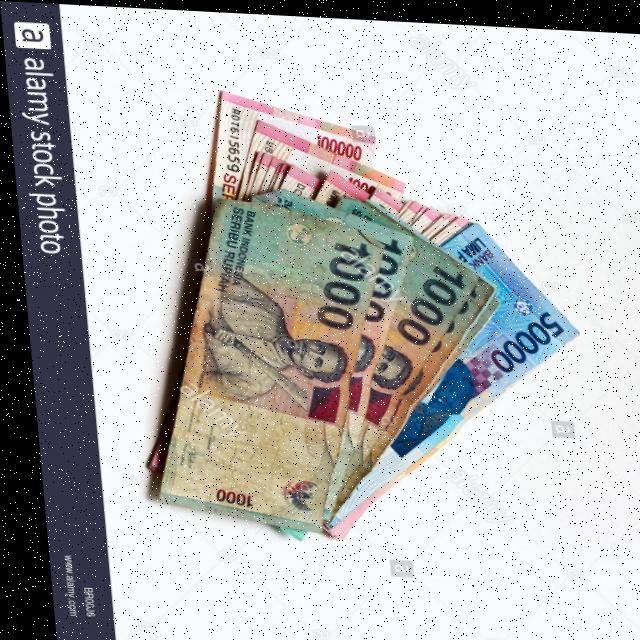1000IndonesianRupiah: (133, 197, 382, 536)
